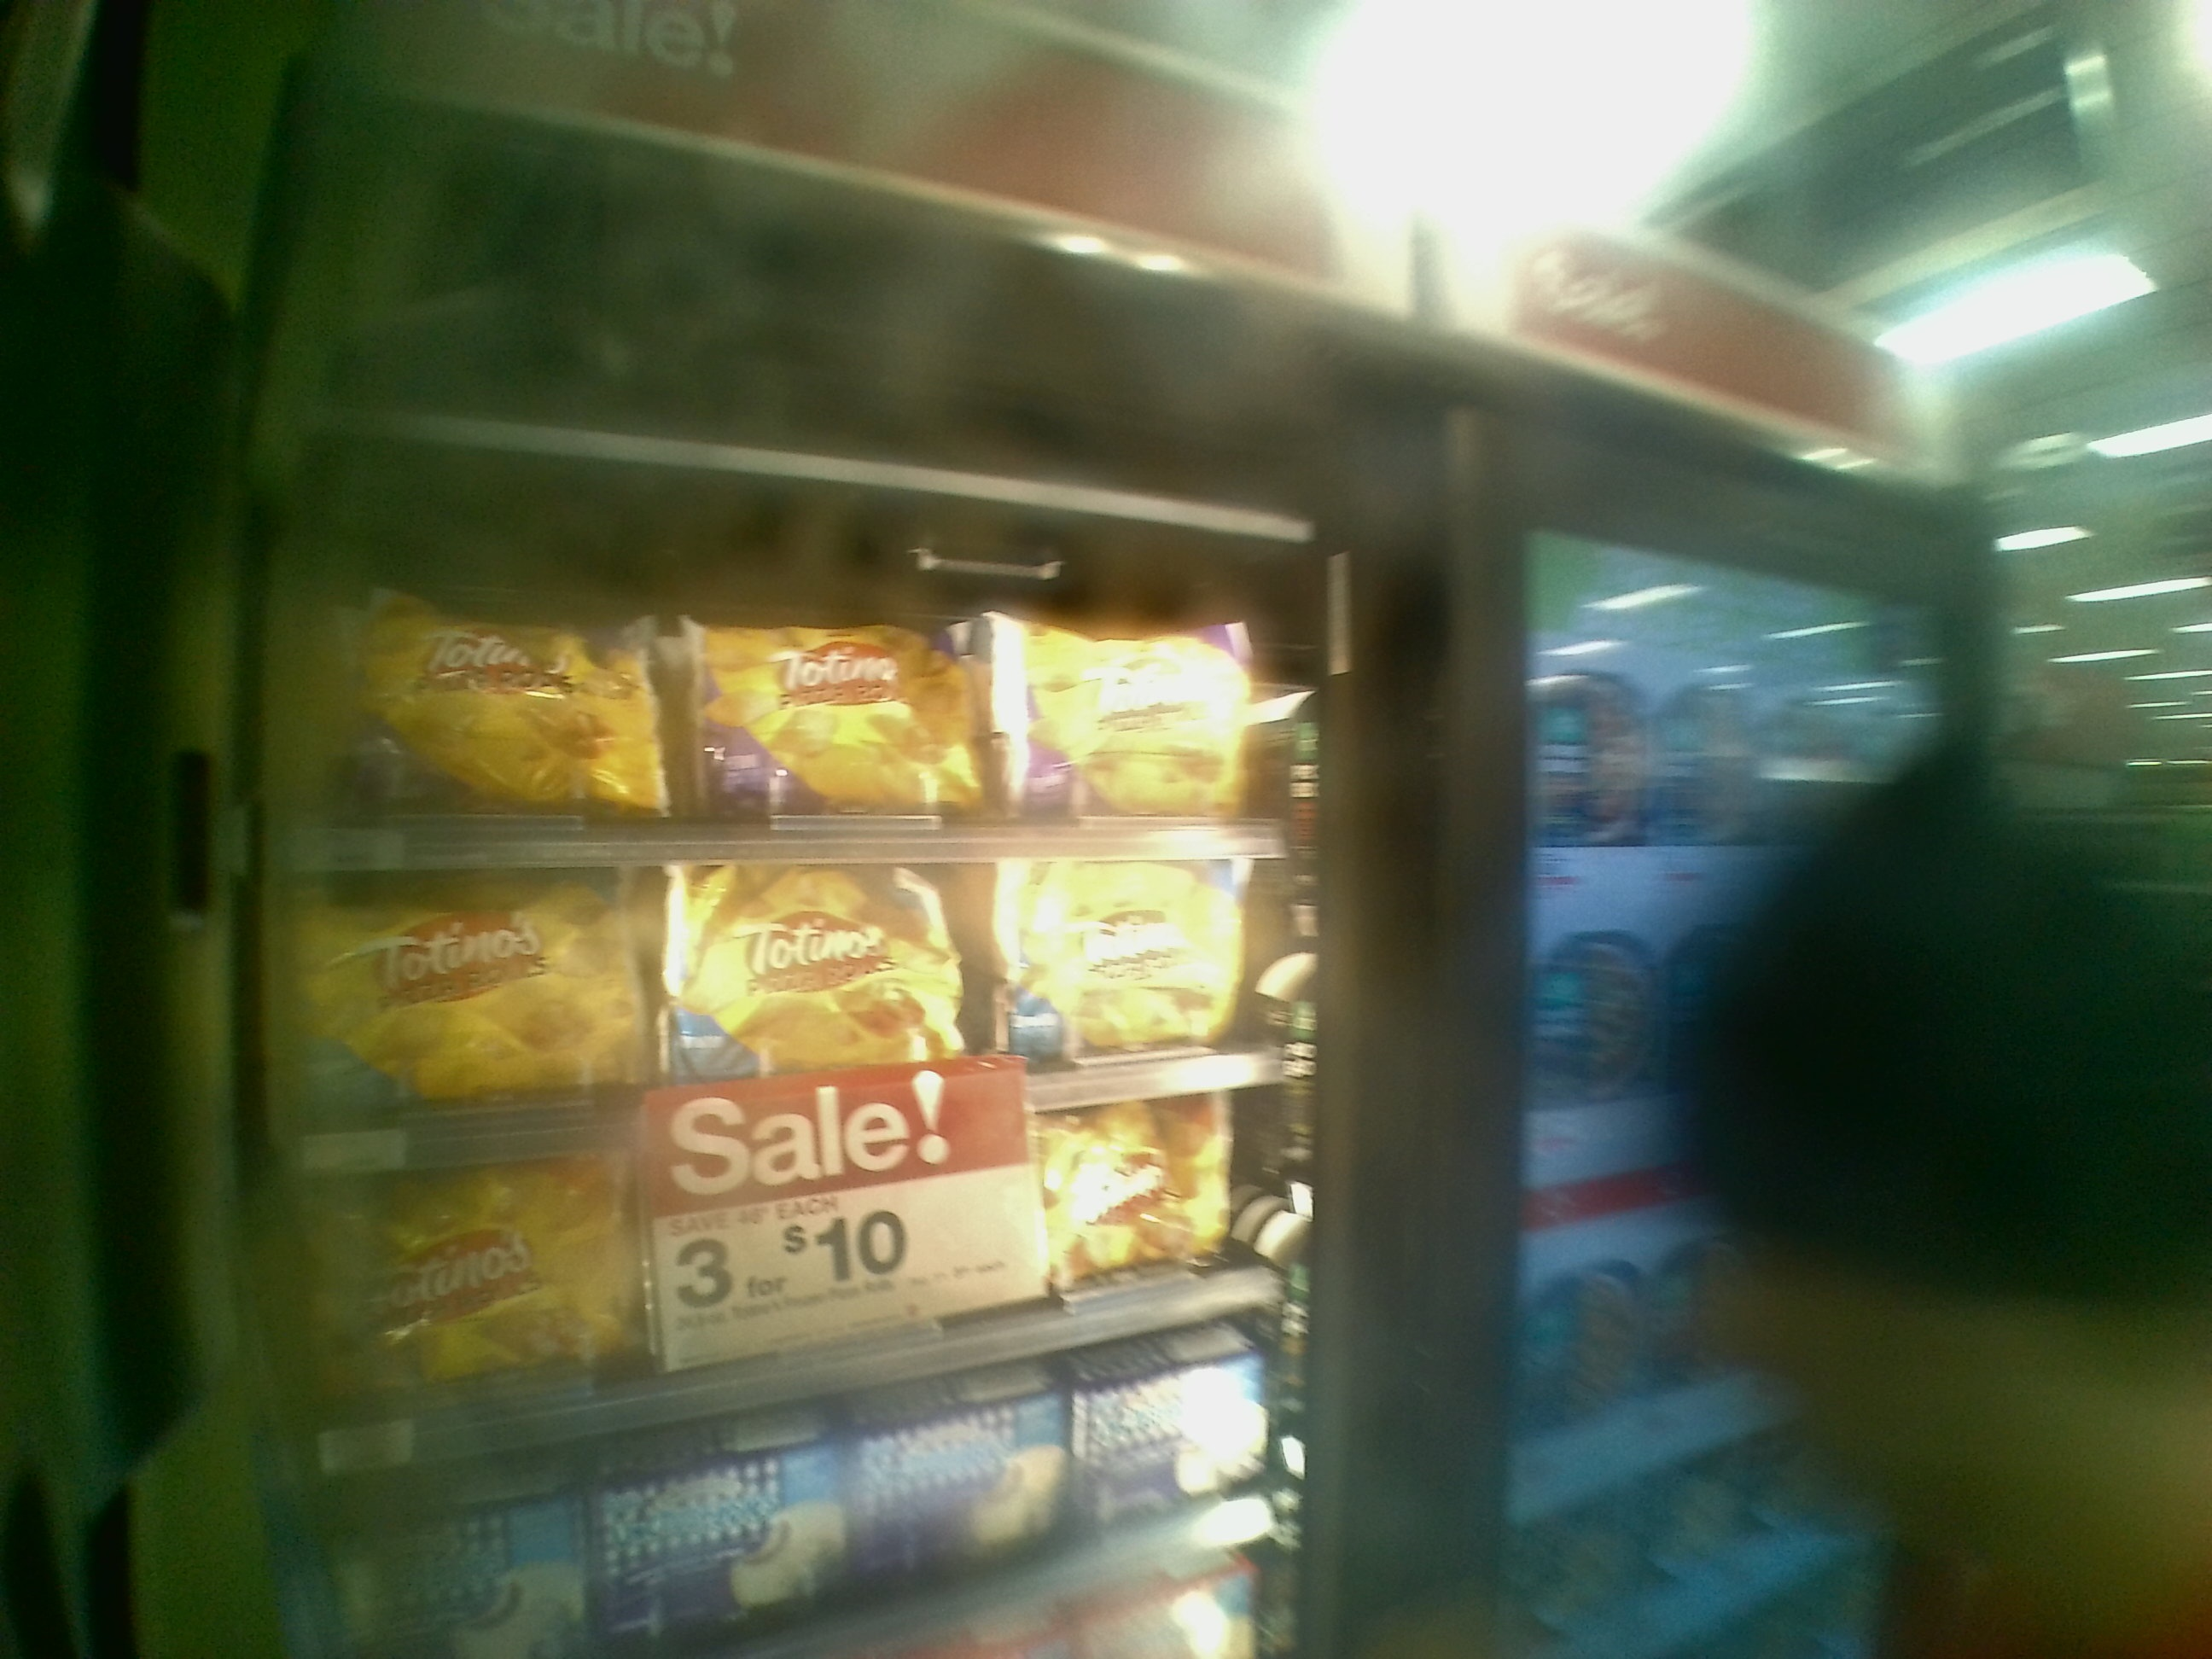shelf: (308, 432, 1325, 873), (275, 878, 1331, 1161), (289, 1154, 1338, 1432)
